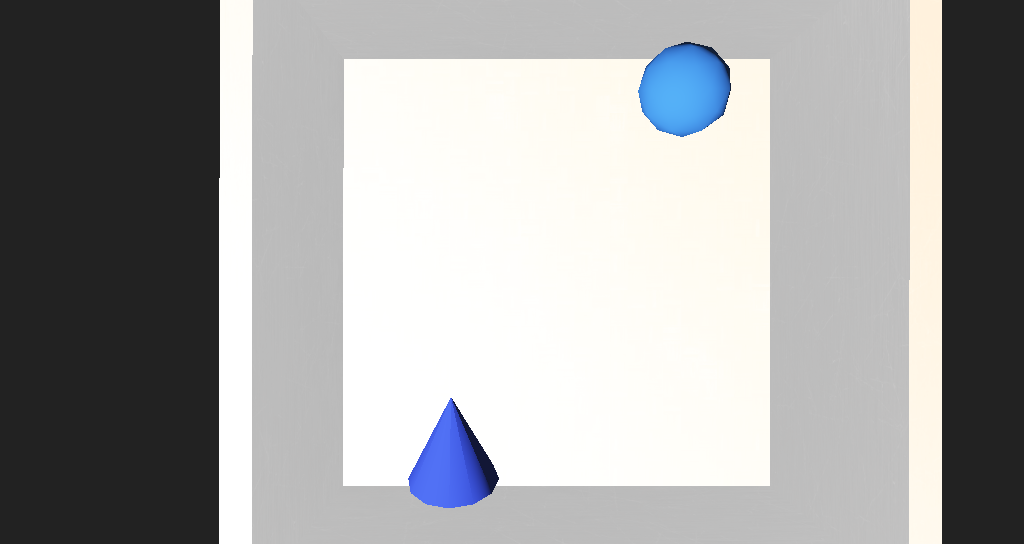cone: (596, 64, 684, 126)
cylinder: (397, 322, 465, 384)
sphere: (559, 160, 627, 203)
